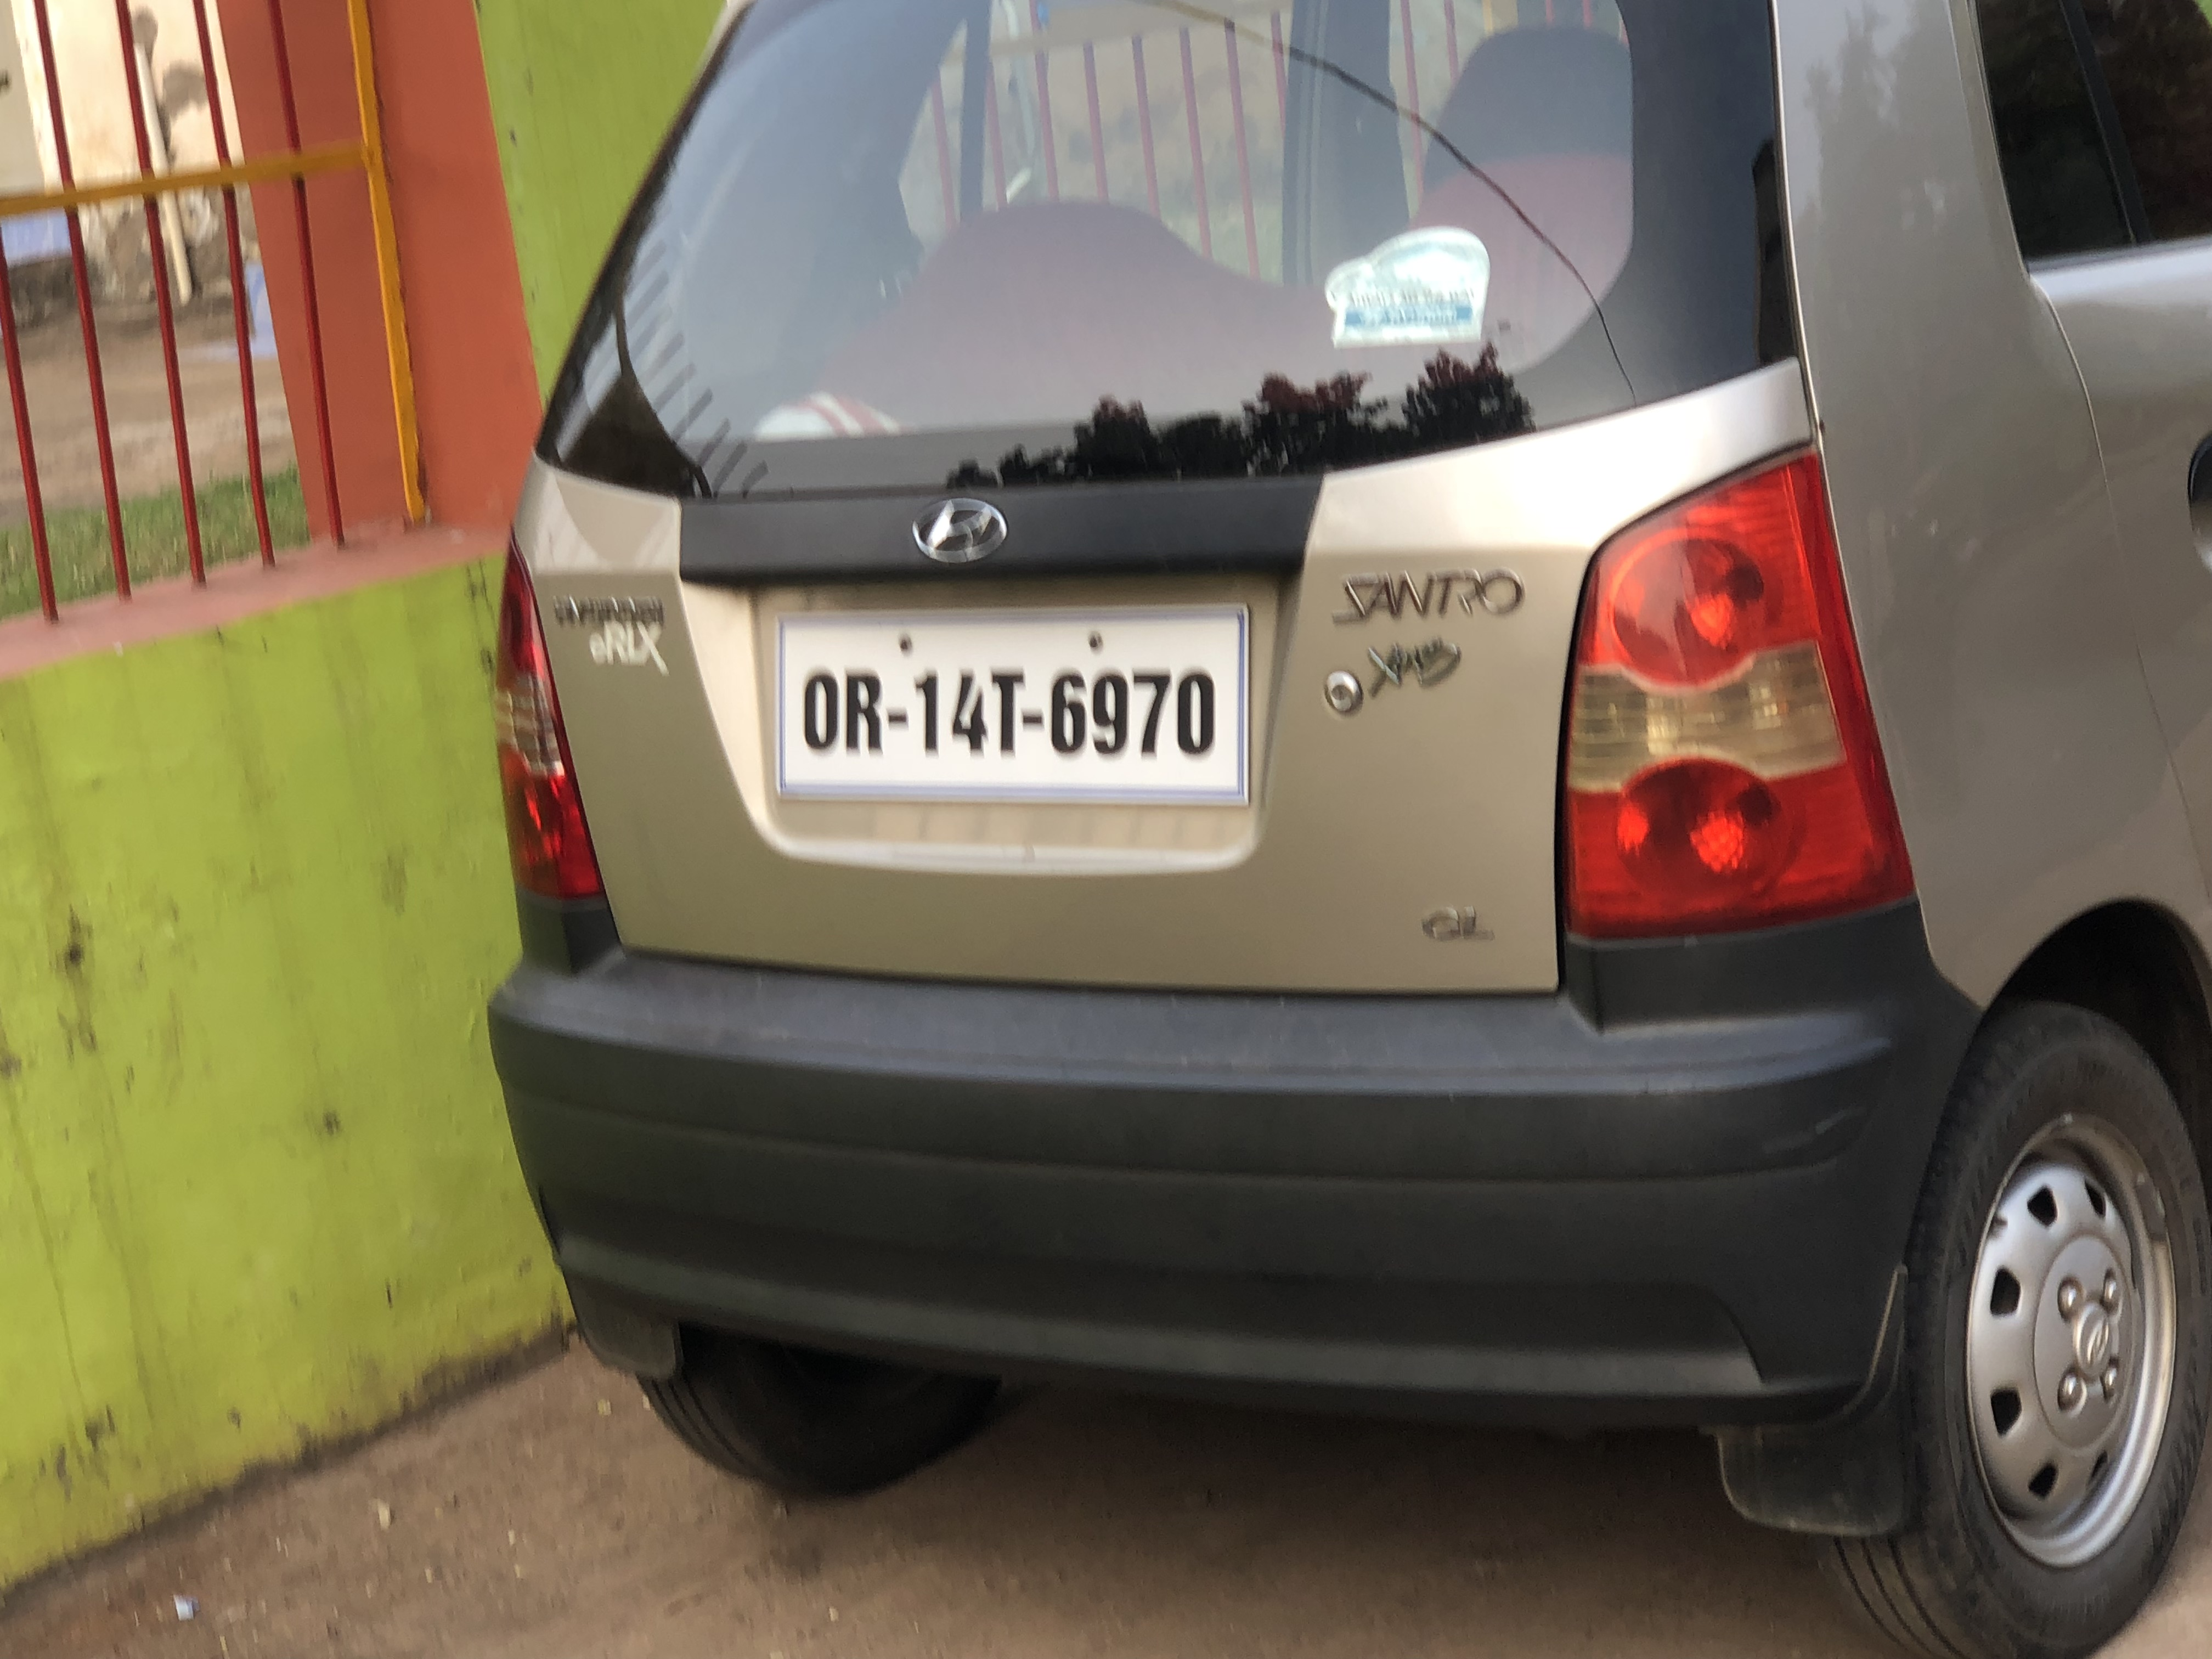licenseplate: (753, 597, 1265, 821)
